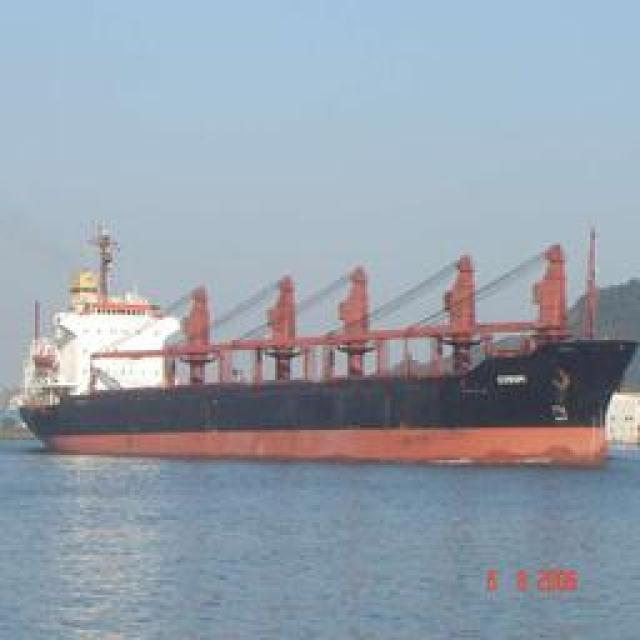CIV_Ship: (6, 338, 634, 470)
